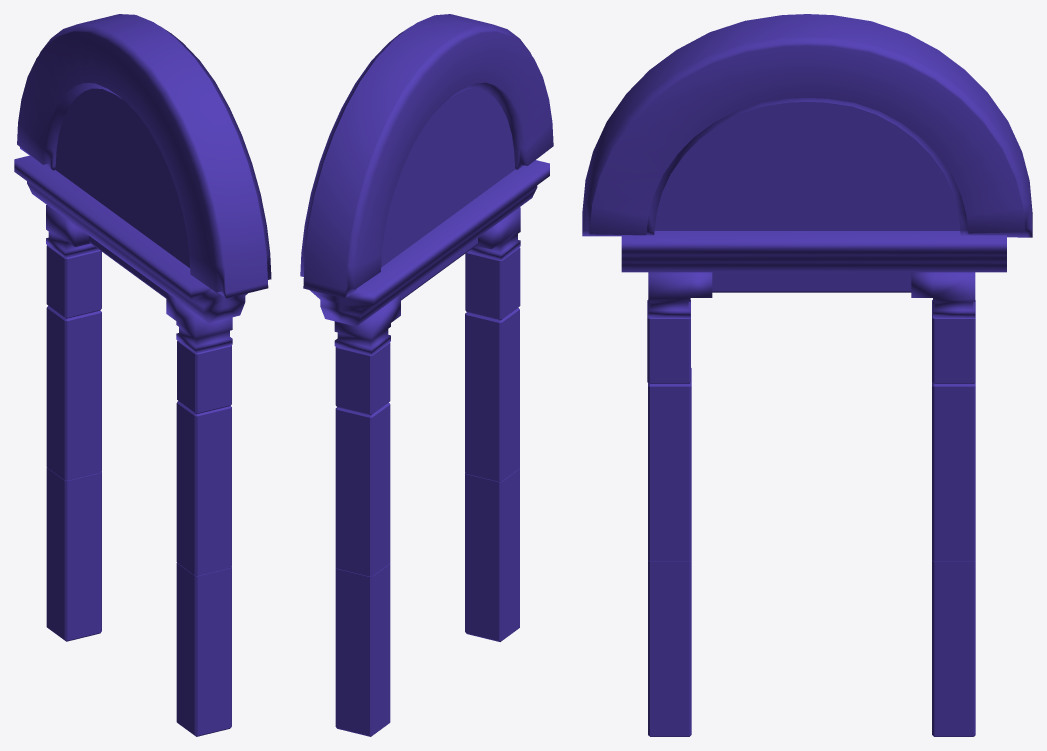
File: Door_Gate_03_Lod0.fbx
The picture shows the model from 3 angles, left to right: view 1: azimuth 30°, elevation 25°; view 2: azimuth 150°, elevation 25°; view 3: azimuth 270°, elevation 25°; orthographic projection. The views are drawn at different scales.
Visible parts, largest first — view 1: Door_Gate_03_Lod0; view 2: Door_Gate_03_Lod0; view 3: Door_Gate_03_Lod0.
Part boxes in pixels (x1,y1,x2,y2): Door_Gate_03_Lod0: [14, 14, 271, 736]; Door_Gate_03_Lod0: [300, 14, 553, 736]; Door_Gate_03_Lod0: [582, 14, 1032, 736].
Size of the model in its own units: 65.65 by 604 by 350.
